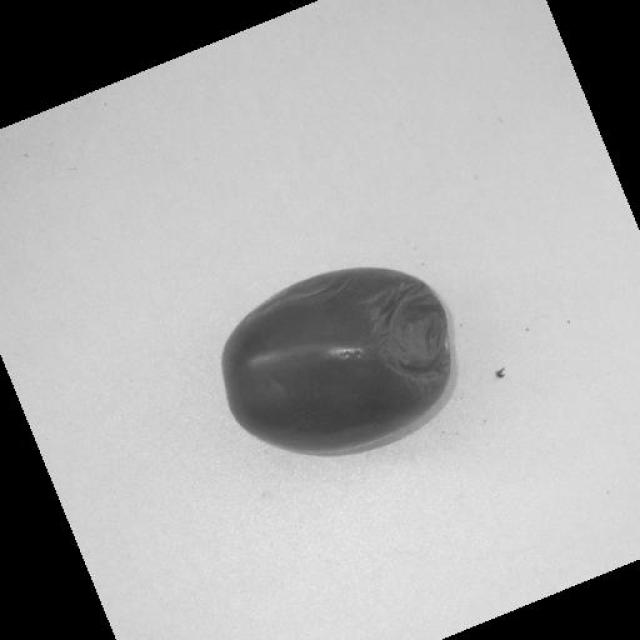Stale_tomato: (310, 278, 448, 409)
